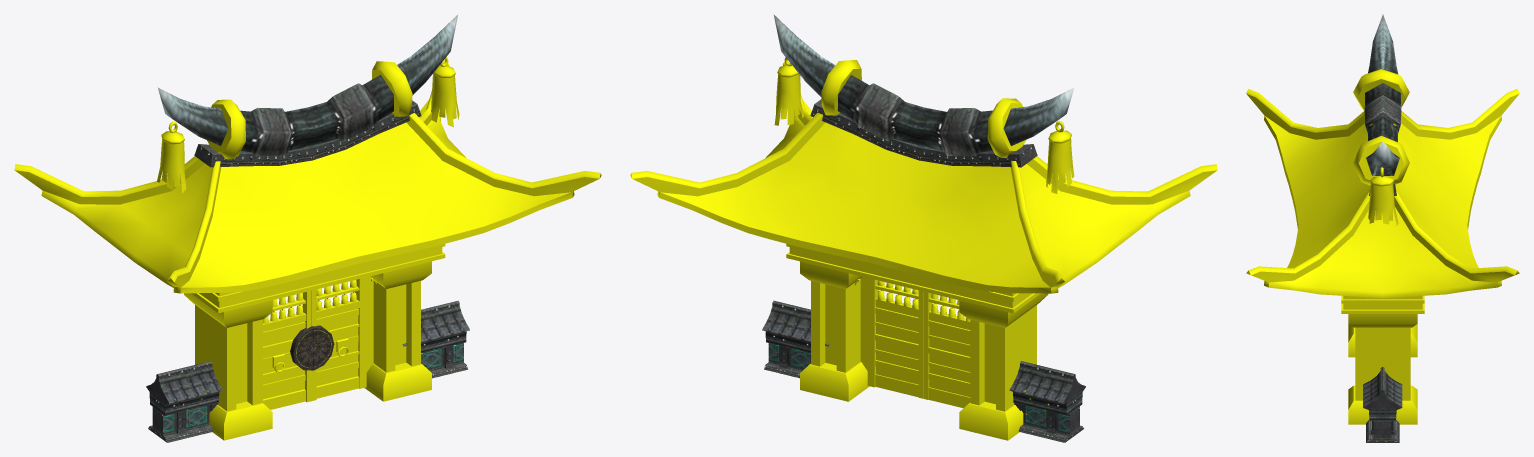
The model's file is 5st_gate_002.glb.
3 views of the same model, side by side, from view 1: azimuth 30°, elevation 25°; view 2: azimuth 150°, elevation 25°; view 3: azimuth 270°, elevation 25° (orthographic). The views are drawn at different scales.
Visible parts, largest first — view 1: 5st_gate_002; view 2: 5st_gate_002; view 3: 5st_gate_002.
Boxes of the visible parts, x1,y1,x2,y2 form: 5st_gate_002: (14,14,601,442); 5st_gate_002: (630,14,1217,442); 5st_gate_002: (1246,14,1519,442).
Bounding box in the file's own units: 18.19 × 13.98 × 11.45.
4 materials, 4 textured.
